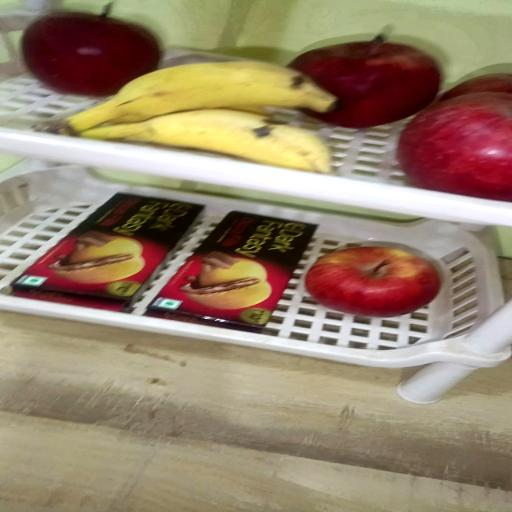Apple: (289, 34, 441, 128), (396, 90, 510, 202), (21, 11, 160, 97), (305, 246, 441, 318), (438, 74, 510, 102)
Choco Fills: (6, 194, 202, 314), (148, 212, 318, 335)
